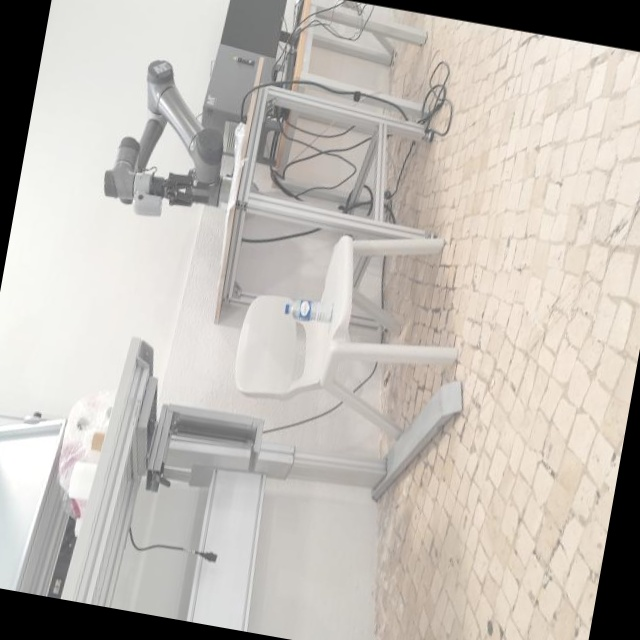Plastic-bottle: (282, 299, 332, 324)
